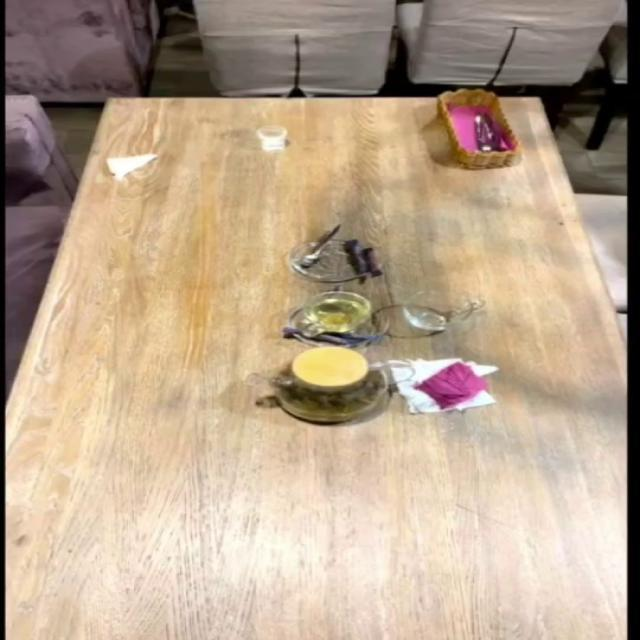tea: (265, 346, 390, 424)
